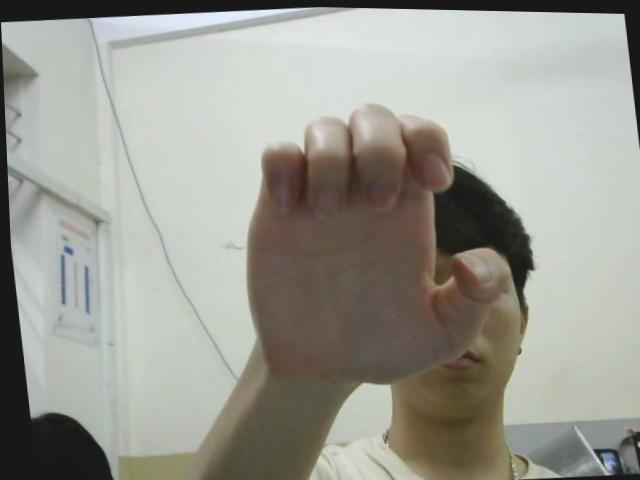E: (223, 88, 516, 393)
